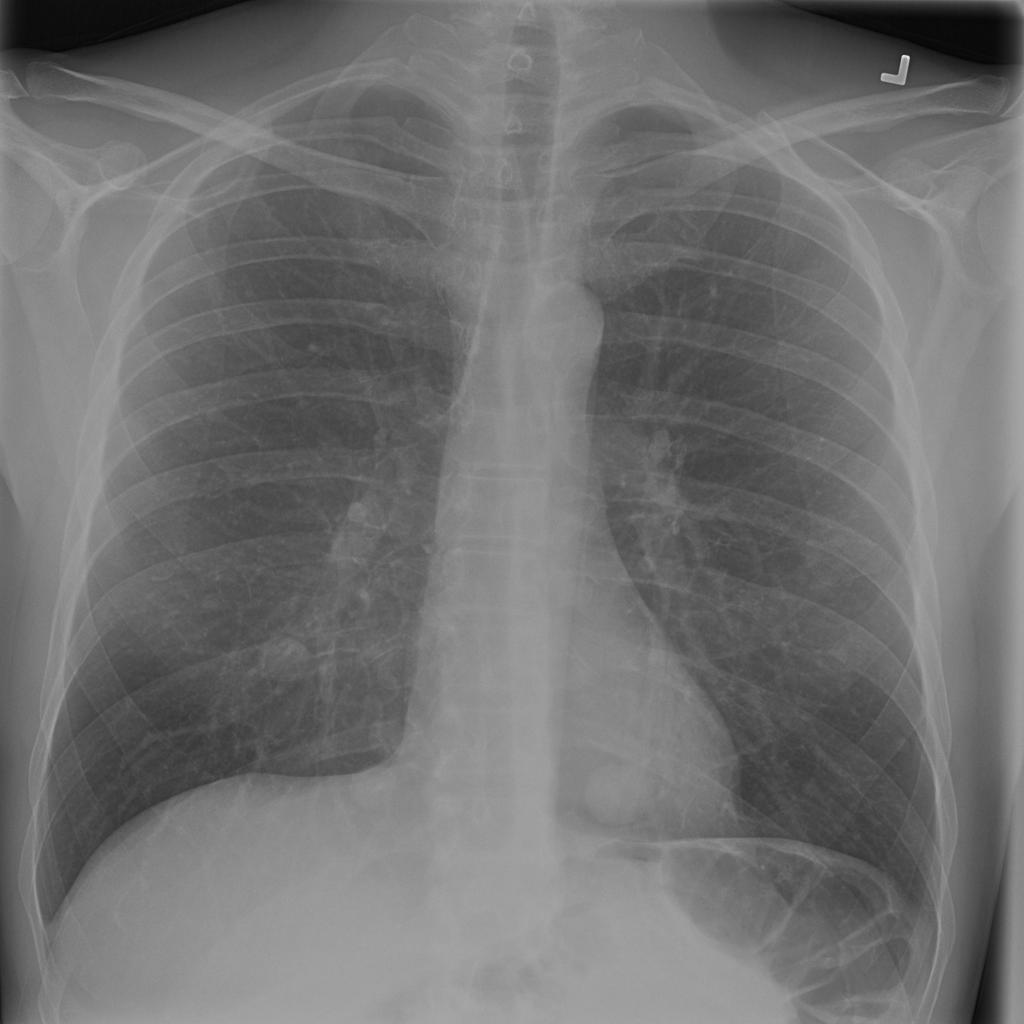nodule: (567, 739, 672, 841), (247, 620, 323, 695), (337, 748, 413, 823), (881, 716, 927, 771), (185, 582, 240, 626)
